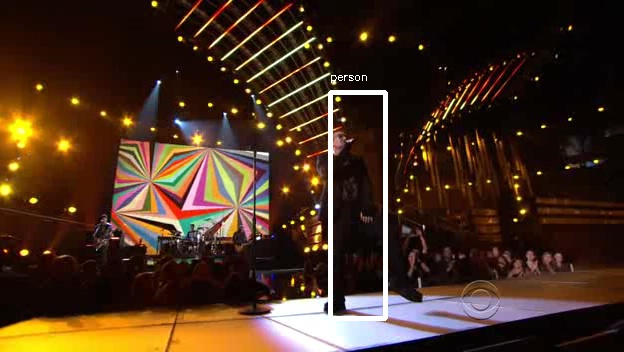person: (313, 131, 380, 248), (310, 131, 377, 248), (316, 131, 383, 248), (313, 128, 380, 245), (313, 134, 380, 251)
target_negative: (279, 265, 488, 316), (583, 290, 603, 330), (591, 287, 614, 321), (614, 104, 623, 142), (573, 22, 586, 48), (609, 269, 621, 270)
